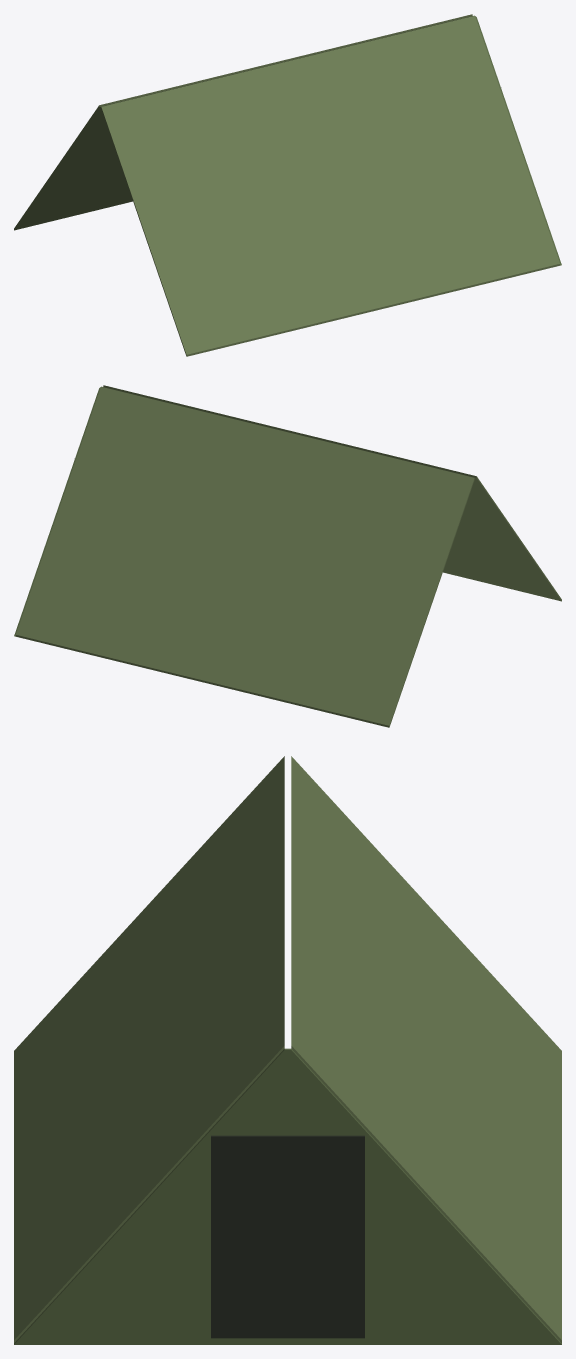
The model's file is military_tent.glb.
The picture shows the model from 3 angles, top to bottom: view 1: azimuth 30°, elevation 25°; view 2: azimuth 150°, elevation 25°; view 3: azimuth 270°, elevation 25°; orthographic projection. The views are drawn at different scales.
Visible parts, largest first — view 1: military_tent; view 2: military_tent; view 3: military_tent.
Part boxes in pixels (left/top/right/bottom): military_tent: left=14, top=14, right=561, bottom=356; military_tent: left=14, top=385, right=561, bottom=727; military_tent: left=14, top=756, right=561, bottom=1344.
Size of the model in its own units: 4.04 by 1.92 by 3.2.
